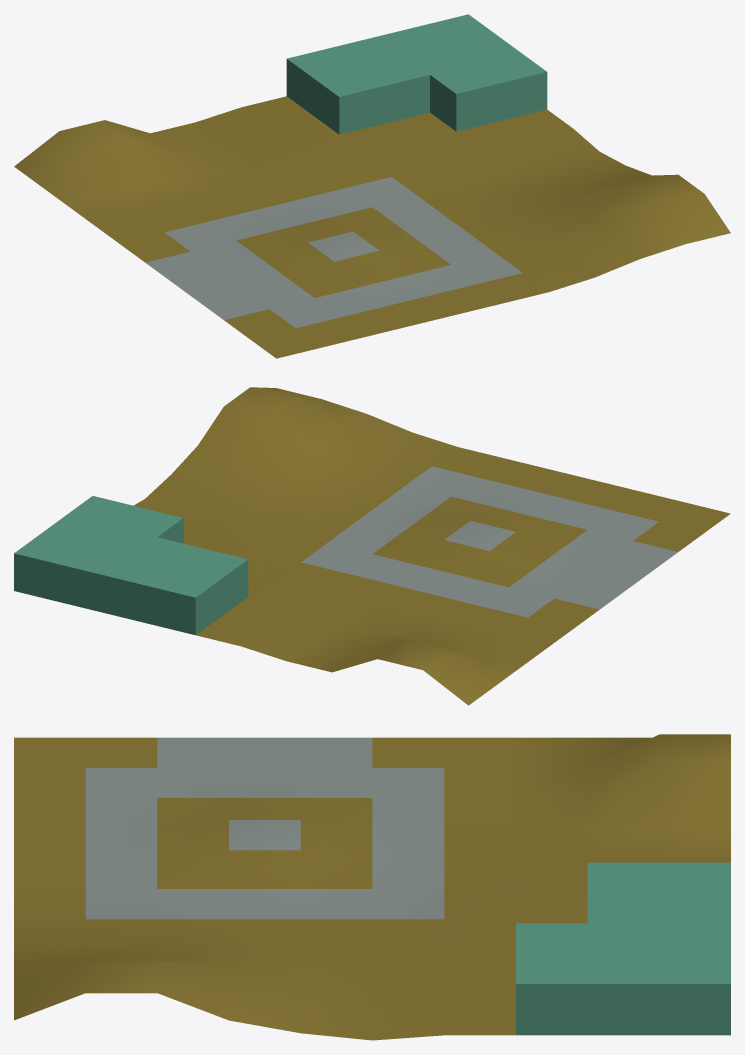
The model's file is level_2.fbx.
The picture shows the model from 3 angles, top to bottom: view 1: azimuth 30°, elevation 25°; view 2: azimuth 150°, elevation 25°; view 3: azimuth 270°, elevation 25°; orthographic projection. The views are drawn at different scales.
Parts seen in each view (by area): view 1: level2; view 2: level2; view 3: level2.
Part boxes in pixels (x1,y1,x2,y2): level2: (14, 14, 730, 358); level2: (14, 387, 730, 705); level2: (14, 734, 730, 1040).
Bounding box in the file's own units: 31.48 × 2.74 × 31.48.
